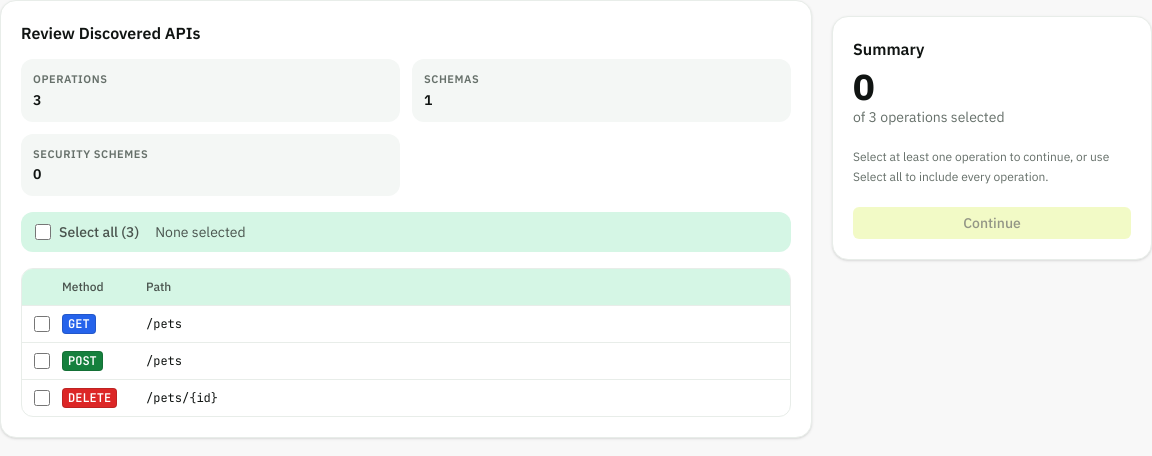
Test case: ApiReviewStage operation selection › keeps Continue disabled, with an explanation, until an operation is selected
The width and height of the screenshot is (1152, 456).
Expected: the button "Continue" is disabled, left=853, top=207, right=1131, bottom=239
Expected: the text "Select at least one operation to continue" is shown, left=853, top=149, right=1109, bottom=184
What coordinates should you click on to do the following:
click the checkbox named "Include POST /pets"
I would click on:
 (42, 361)
Its box is left=34, top=353, right=50, bottom=369.
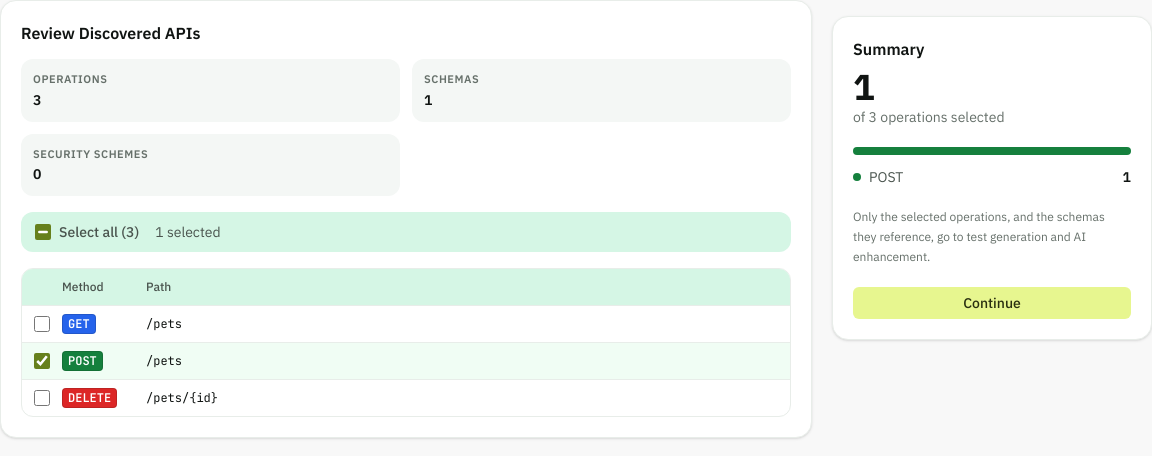
Expected: the button "Continue" is enabled, left=853, top=287, right=1131, bottom=319
